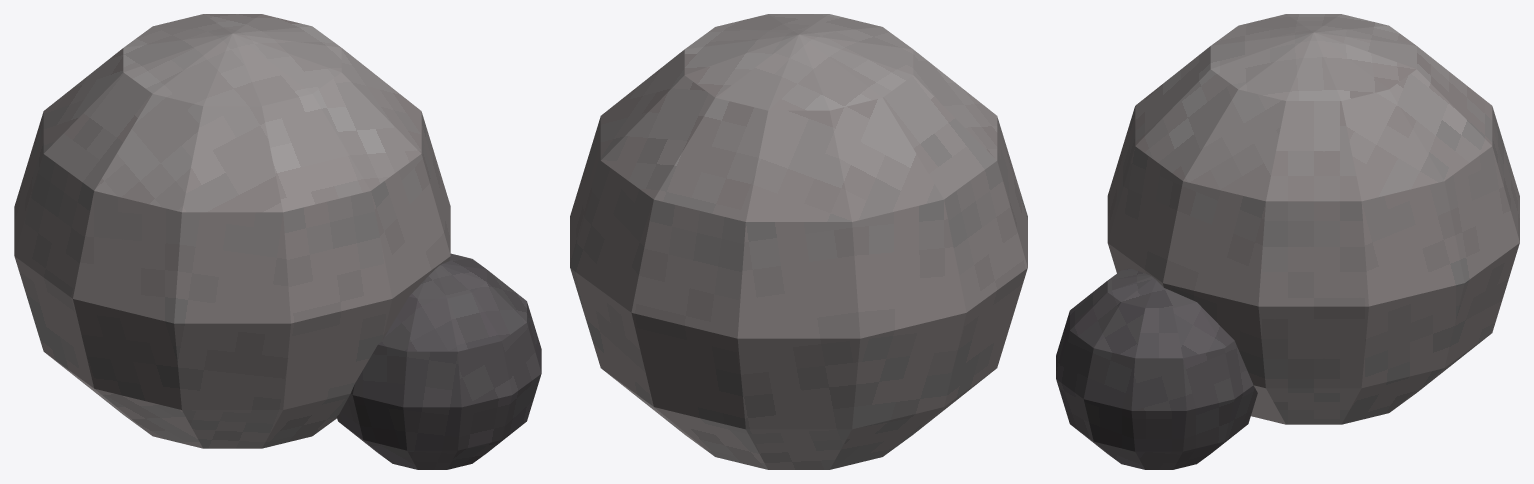
File: StoneResourceIcon.obj
3 views of the same model, side by side, from view 1: azimuth 30°, elevation 25°; view 2: azimuth 150°, elevation 25°; view 3: azimuth 270°, elevation 25° (orthographic). The views are drawn at different scales.
Parts seen in each view (by area): view 1: Large Rock, Small Rock; view 2: Large Rock; view 3: Large Rock, Small Rock.
Boxes of the visible parts, x1,y1,x2,y2 form: Large Rock: (14,14,450,448); Small Rock: (336,253,541,469); Large Rock: (570,14,1027,469); Large Rock: (1107,14,1519,424); Small Rock: (1056,268,1257,469).
Size of the model in its own units: 1.06 by 1 by 1.12.
2 materials, 2 textured.
